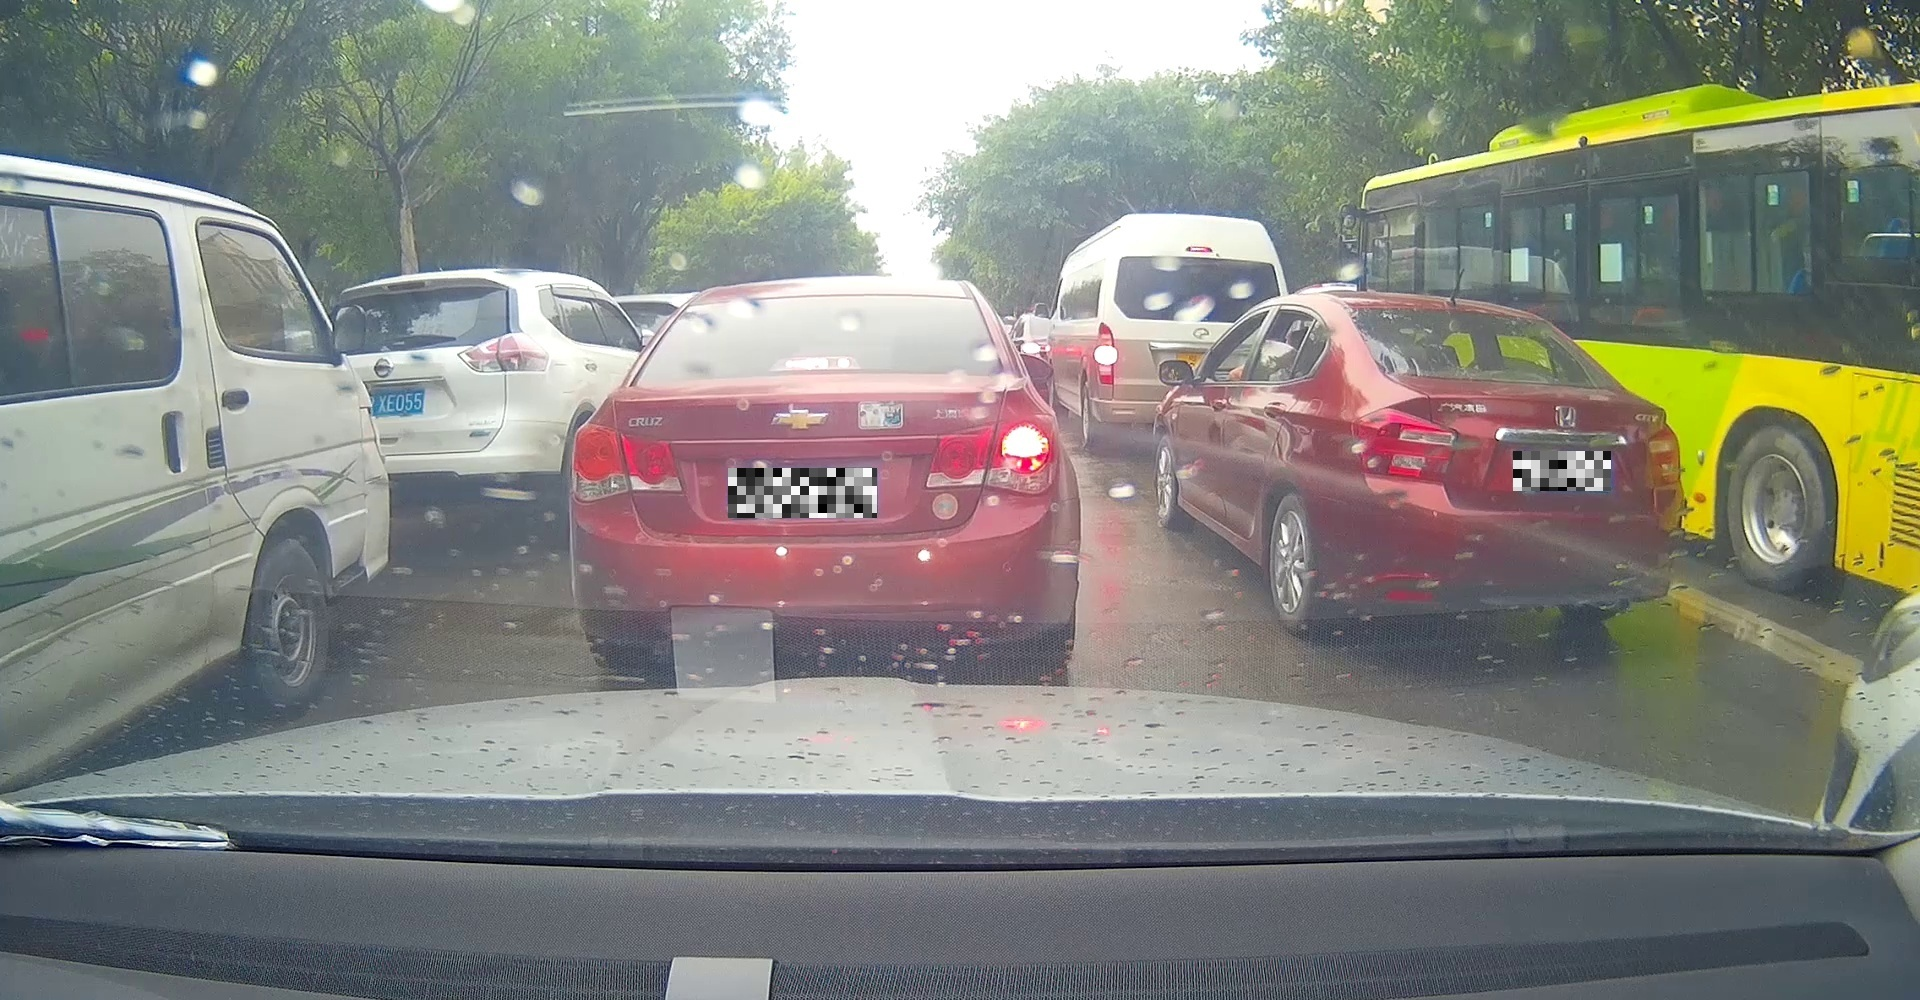L_light: (571, 425, 683, 503), (1354, 409, 1457, 482)
R_light: (923, 412, 1062, 494), (1646, 424, 1681, 485)
T_light: (782, 357, 855, 371), (1484, 371, 1543, 381)
day-no: (1343, 292, 1685, 641)
day-right: (568, 275, 1082, 671)
plate_1: (728, 468, 877, 518)
plate_2: (1512, 451, 1611, 491)
